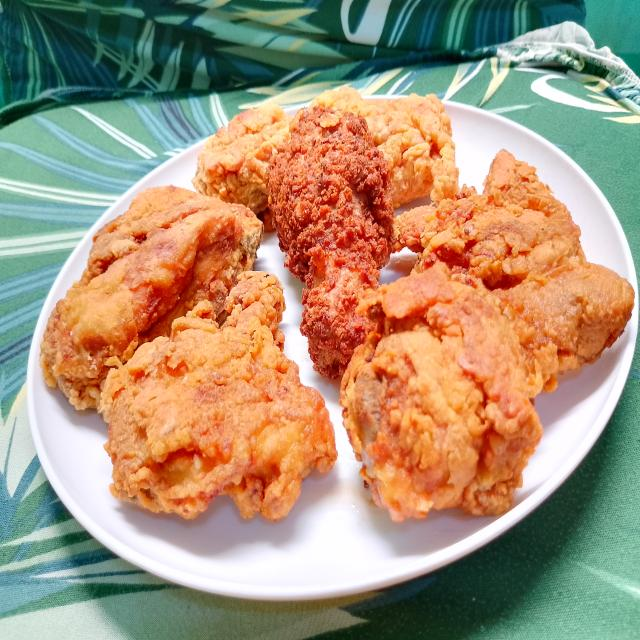Chicken -Fried Chicken-: (97, 266, 330, 529), (389, 165, 633, 408), (40, 181, 262, 403), (338, 272, 516, 529), (261, 91, 408, 388), (308, 74, 464, 198), (192, 98, 310, 235)
